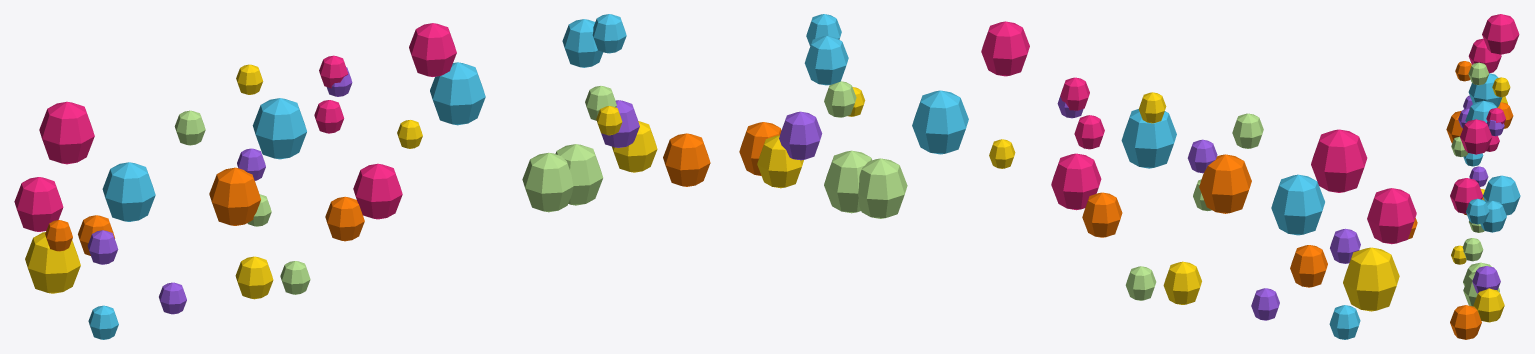
File: W6_Far_Balloons.fbx
3 views of the same model, side by side, from view 1: azimuth 30°, elevation 25°; view 2: azimuth 150°, elevation 25°; view 3: azimuth 270°, elevation 25° (orthographic). The views are drawn at different scales.
Visible parts, largest first — view 1: W6_Far_Balloons; view 2: W6_Far_Balloons; view 3: W6_Far_Balloons.
Part boxes in pixels (x1=…): W6_Far_Balloons: x1=14, y1=14, x2=710, y2=339; W6_Far_Balloons: x1=739, y1=14, x2=1417, y2=339; W6_Far_Balloons: x1=1446, y1=14, x2=1520, y2=339.
Size of the model in its own units: 480 by 163 by 69.93.
